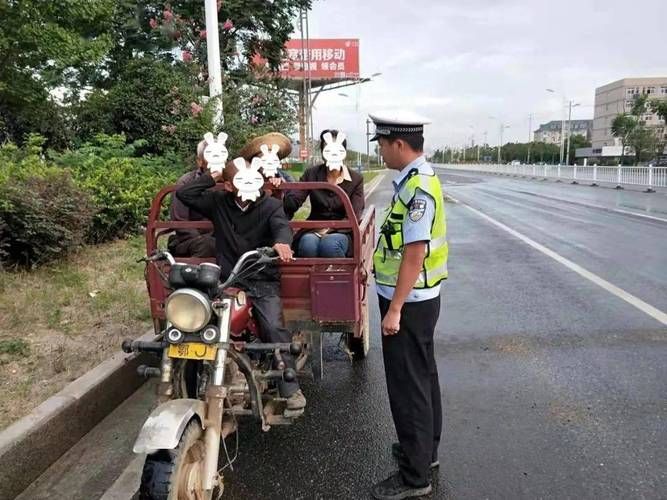driver: (201, 163, 297, 363)
overloading: (81, 121, 383, 497)
passenger: (299, 126, 372, 226), (179, 129, 230, 210), (242, 128, 298, 191)
